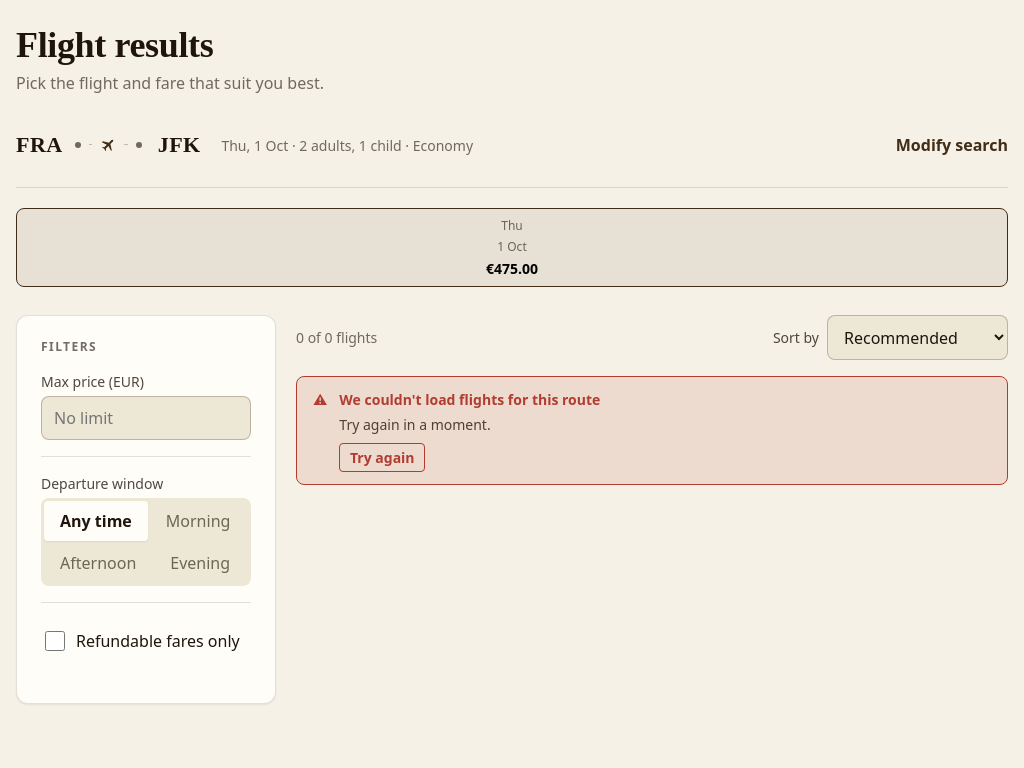
Test case: ResultsPage › shows a retryable error state when the flight search fails
Click the button with class "alert__retry".
click(382, 458)  # box [339,443,425,472]
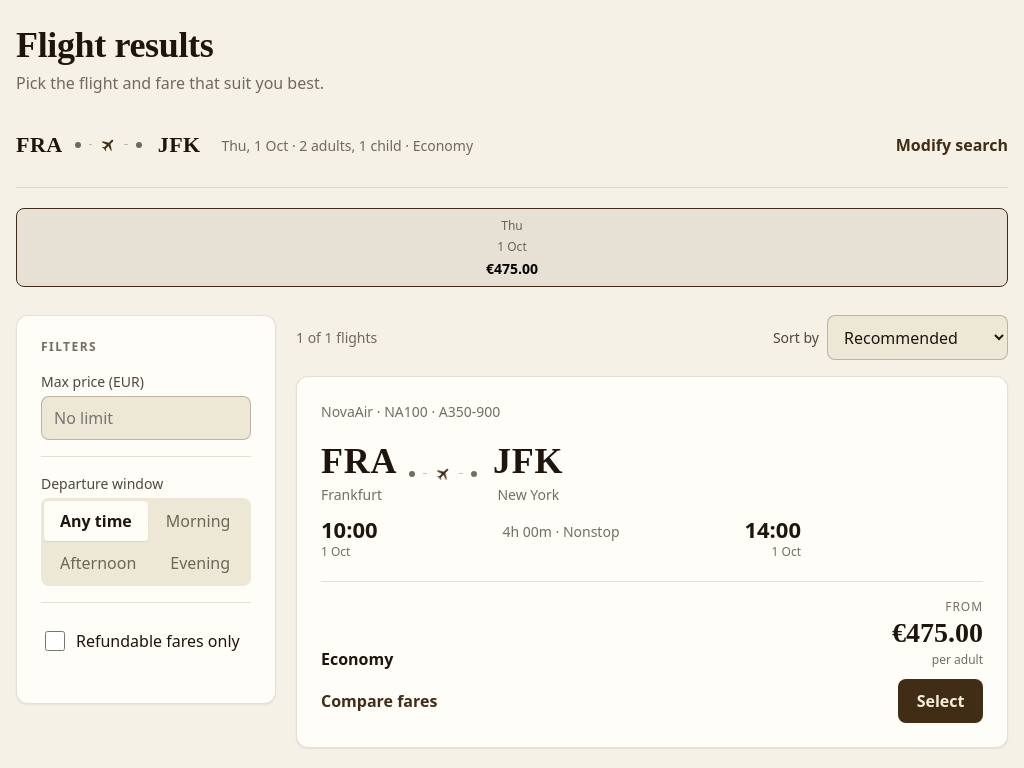
Now the list item is shown, box [296,376,1008,748]
